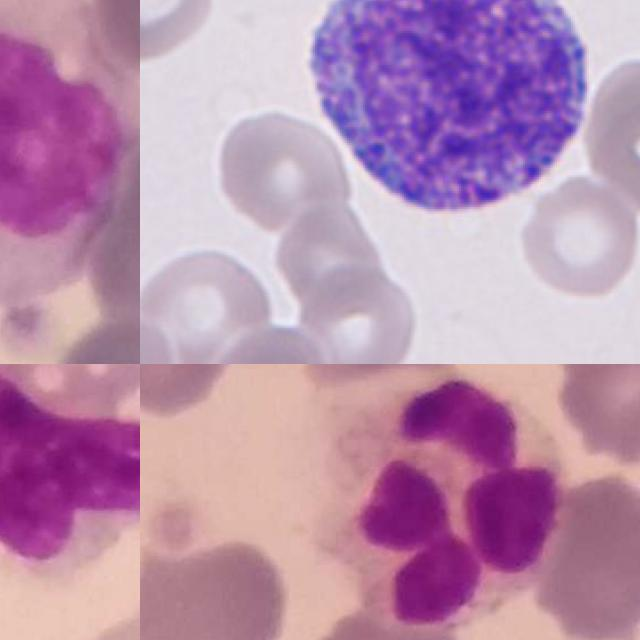Lymphocyte: (293, 0, 608, 230)
Monocyte: (0, 0, 140, 317), (0, 364, 140, 566)
Neutrophil: (309, 376, 569, 634)
RBC: (210, 106, 354, 234), (140, 241, 277, 364), (514, 175, 640, 301), (269, 204, 390, 314), (290, 264, 421, 364), (578, 47, 640, 216), (206, 319, 331, 364), (140, 0, 221, 59), (140, 301, 180, 364)
